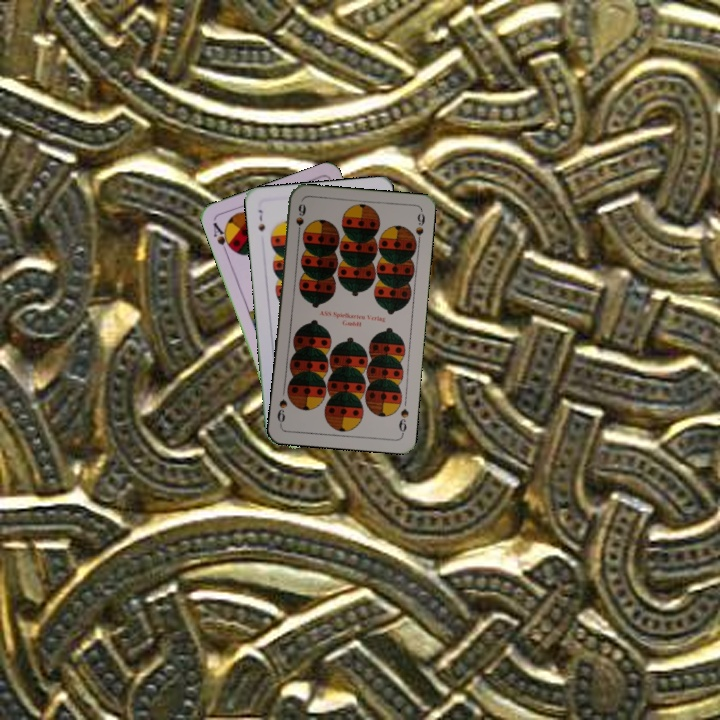S7: (254, 206, 267, 234)
S9: (292, 200, 309, 239), (394, 405, 411, 437)
SA: (209, 218, 236, 256)
